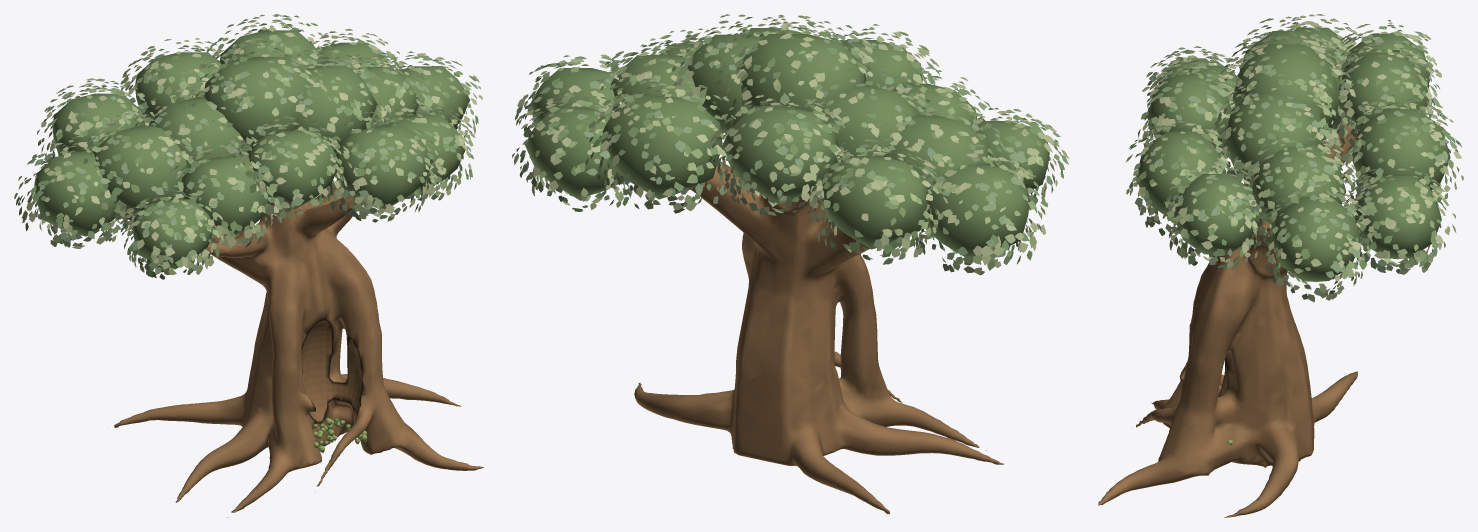
The model's file is glade-oak.glb.
The picture shows the model from 3 angles, left to right: view 1: azimuth 30°, elevation 25°; view 2: azimuth 150°, elevation 25°; view 3: azimuth 270°, elevation 25°; orthographic projection. The views are drawn at different scales.
Visible parts, largest first — view 1: Glade_Canopy_Core, Glade_Trunk, Glade_Canopy, Root_Moss; view 2: Glade_Canopy_Core, Glade_Trunk, Glade_Canopy; view 3: Glade_Canopy_Core, Glade_Canopy, Glade_Trunk.
Boxes of the visible parts, left/top/right/bottom form: Glade_Canopy_Core: left=34, top=30, right=469, bottom=269; Glade_Trunk: left=114, top=180, right=483, bottom=517; Glade_Canopy: left=14, top=14, right=482, bottom=279; Root_Moss: left=312, top=417, right=367, bottom=452; Glade_Canopy_Core: left=525, top=28, right=1049, bottom=257; Glade_Trunk: left=634, top=162, right=1003, bottom=514; Glade_Canopy: left=512, top=14, right=1068, bottom=275; Glade_Canopy_Core: left=1136, top=27, right=1450, bottom=281; Glade_Canopy: left=1126, top=14, right=1463, bottom=302; Glade_Trunk: left=1098, top=117, right=1357, bottom=517.
Bounding box in the file's own units: 9.17 × 7.78 × 6.25.
